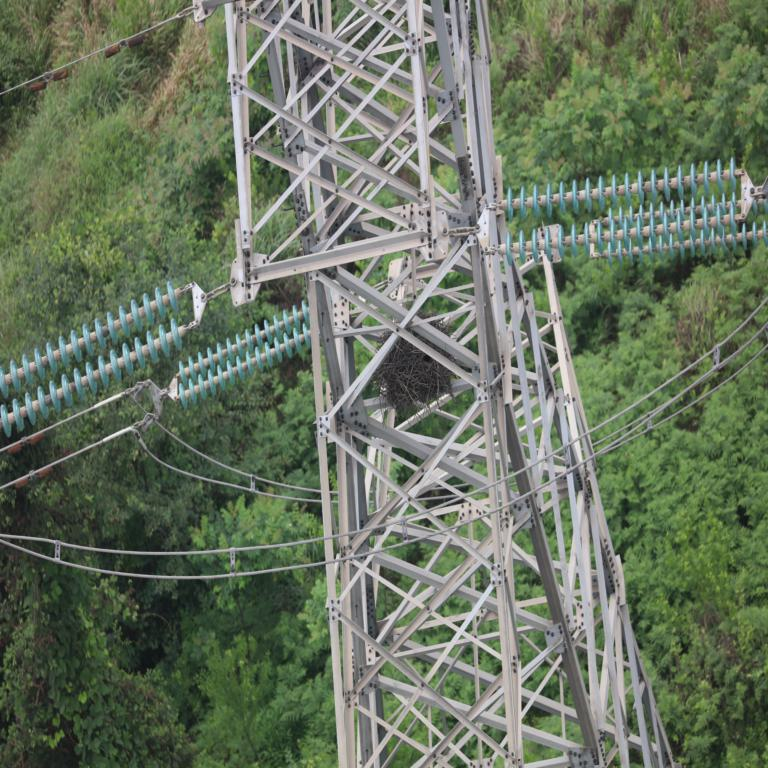nest: (377, 322, 452, 410)
